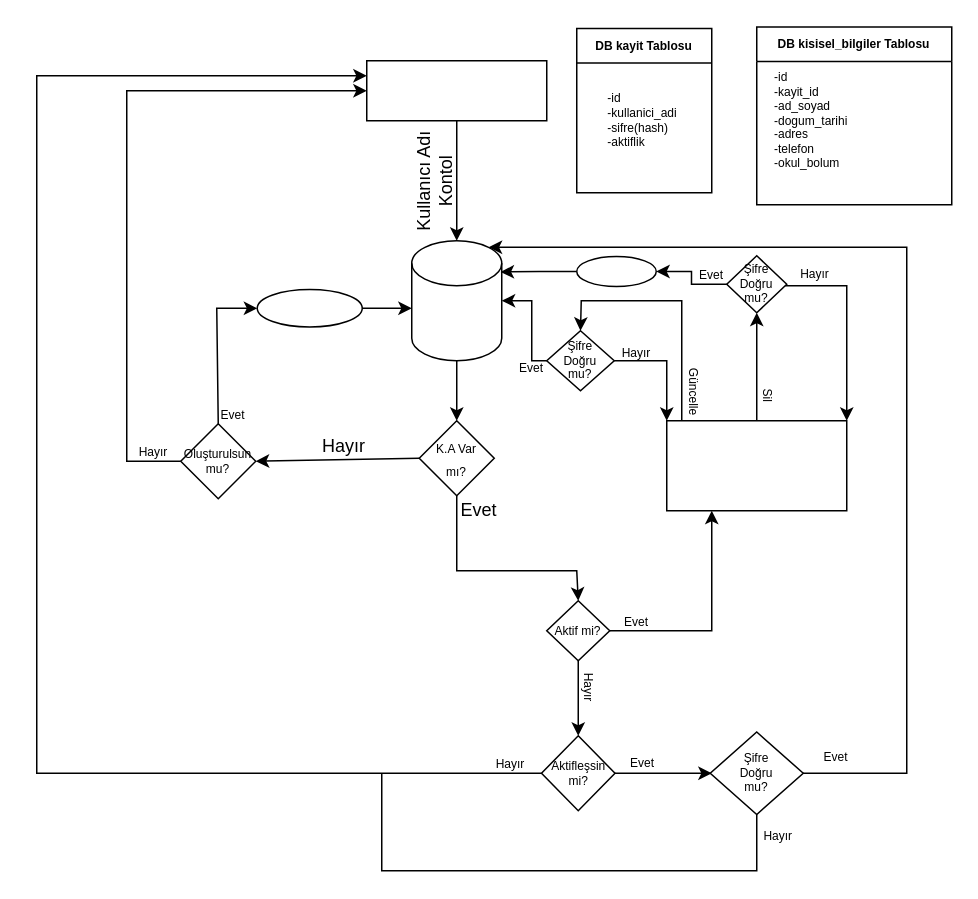
Image size: 978x899. Some labels were removed from this diagram. The shapes that lost their labels are listed below. From the top down, each one's centre as x and y in pixels, then its label:
point (456, 90): Login\Kayıt
point (615, 270): Aktiflik 0 Yap
point (309, 307): Kullanıcı Oluştur
point (456, 300): DB
point (756, 465): Kişisel Bilgiler
